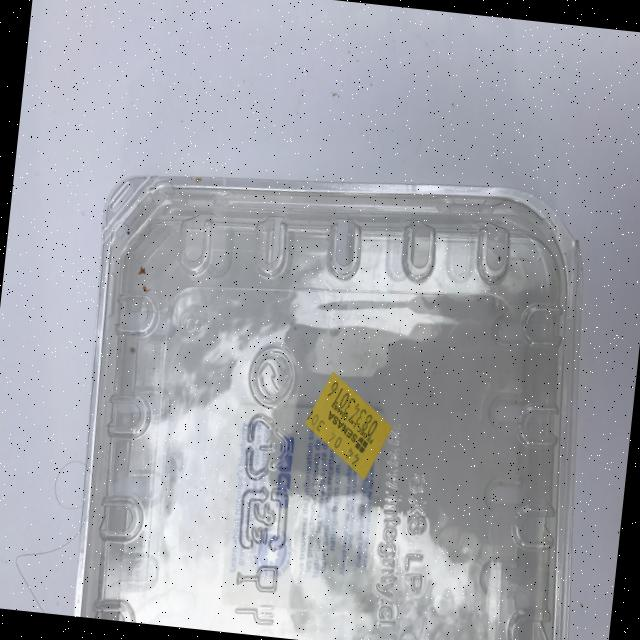plastic: (61, 146, 612, 640)
